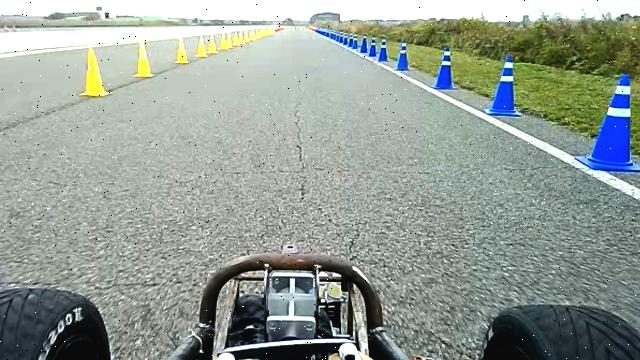blue cone: (575, 73, 640, 172), (484, 54, 522, 116), (431, 45, 459, 90), (394, 39, 410, 71), (378, 38, 390, 62), (368, 35, 377, 57), (359, 35, 368, 53), (351, 36, 359, 50)
yellow cone: (79, 47, 112, 97), (133, 40, 155, 78), (175, 36, 190, 64), (196, 35, 208, 57), (207, 34, 218, 54), (219, 32, 227, 50), (225, 33, 232, 49), (237, 31, 245, 45), (232, 33, 240, 46)
